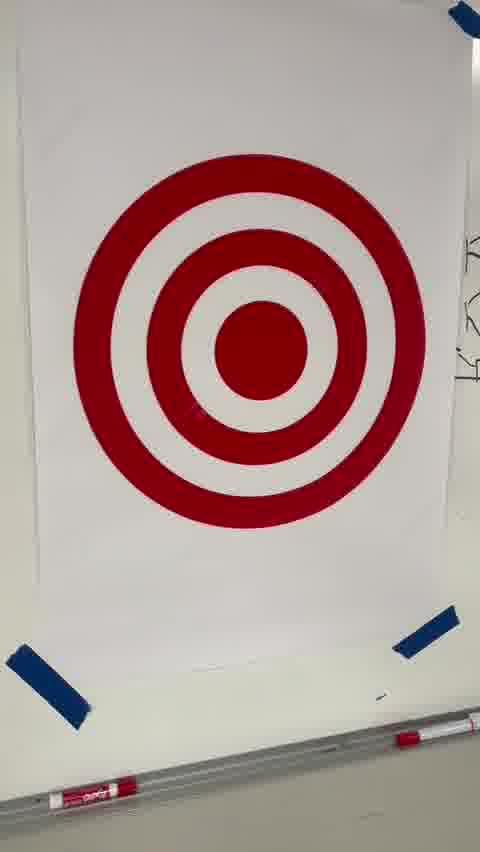target_red: (73, 153, 428, 530)
